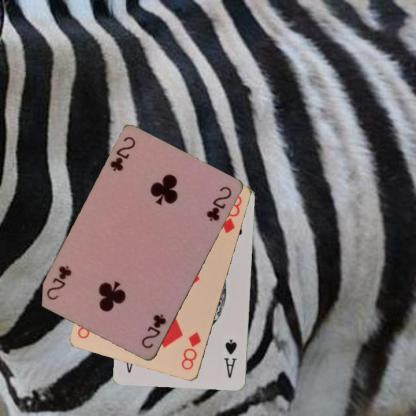2c: (107, 134, 137, 173), (139, 312, 168, 350)
8d: (178, 329, 202, 372)
As: (222, 336, 238, 380)
